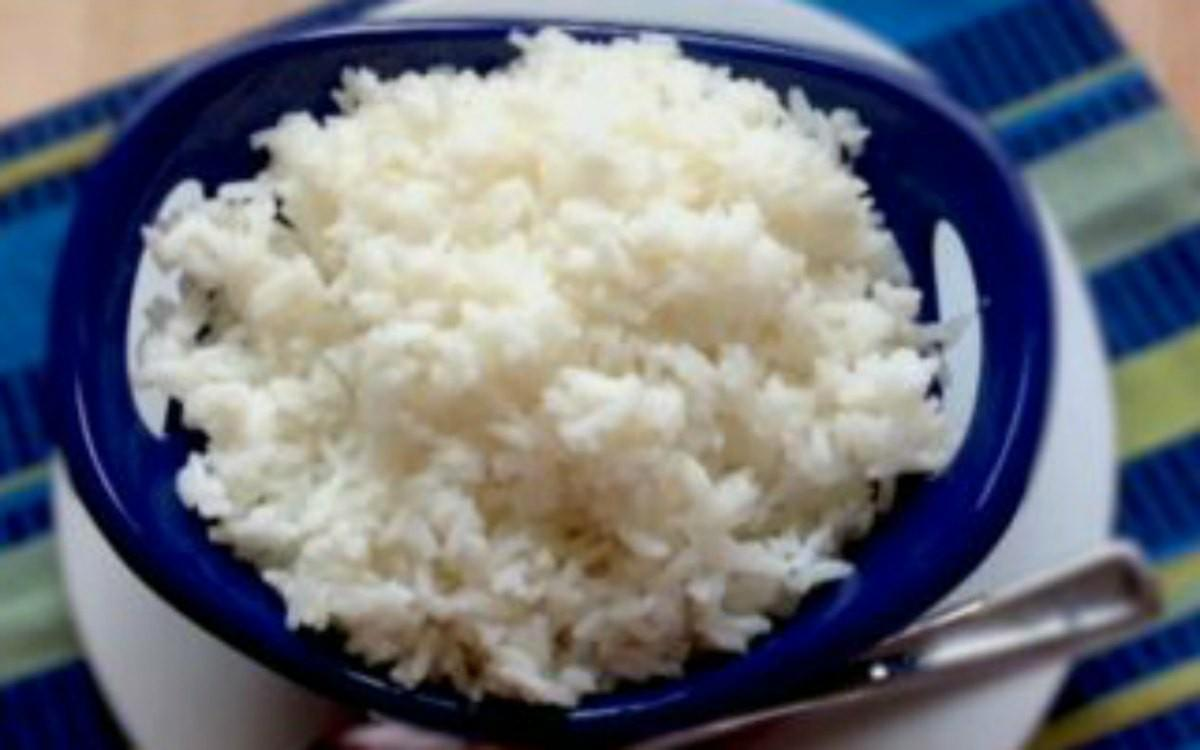WhiteRice: (129, 22, 948, 704)
